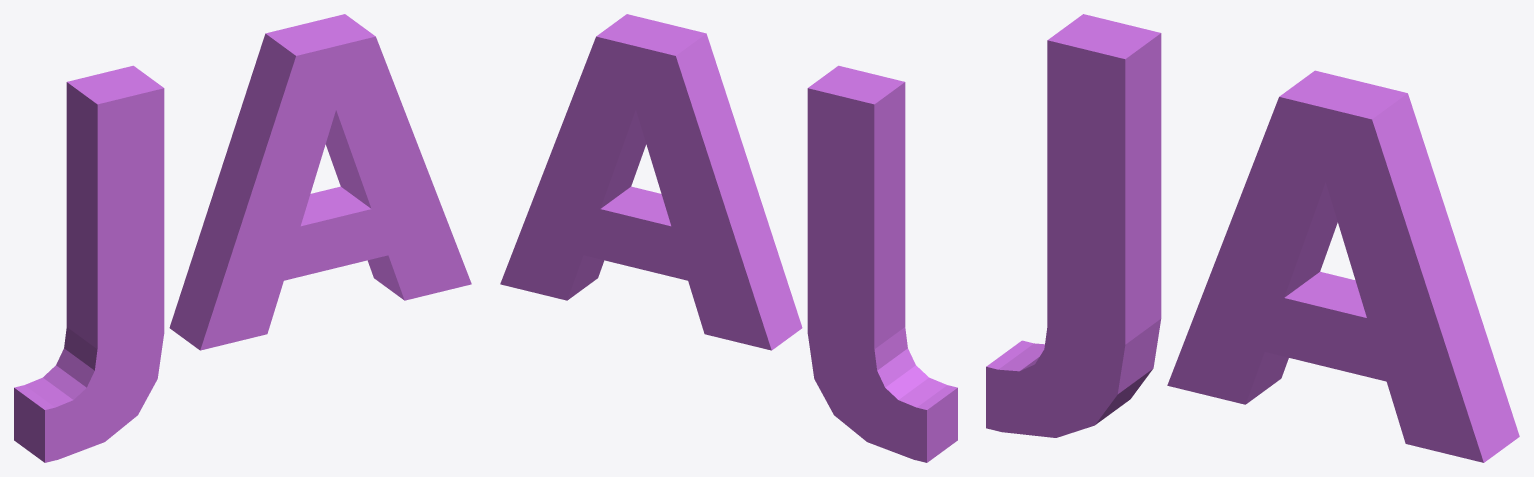
File: suku_besar_ja.glb
3 views of the same model, side by side, from view 1: azimuth 30°, elevation 25°; view 2: azimuth 150°, elevation 25°; view 3: azimuth 330°, elevation 25° (orthographic). The views are drawn at different scales.
Visible parts, largest first — view 1: geometry_0; view 2: geometry_0; view 3: geometry_0.
Part boxes in pixels (<box>): geometry_0: <box>14,14,471,462</box>; geometry_0: <box>500,14,957,462</box>; geometry_0: <box>986,14,1519,462</box>.
Bounding box in the file's own units: 12.01 × 9.29 × 1.5.
